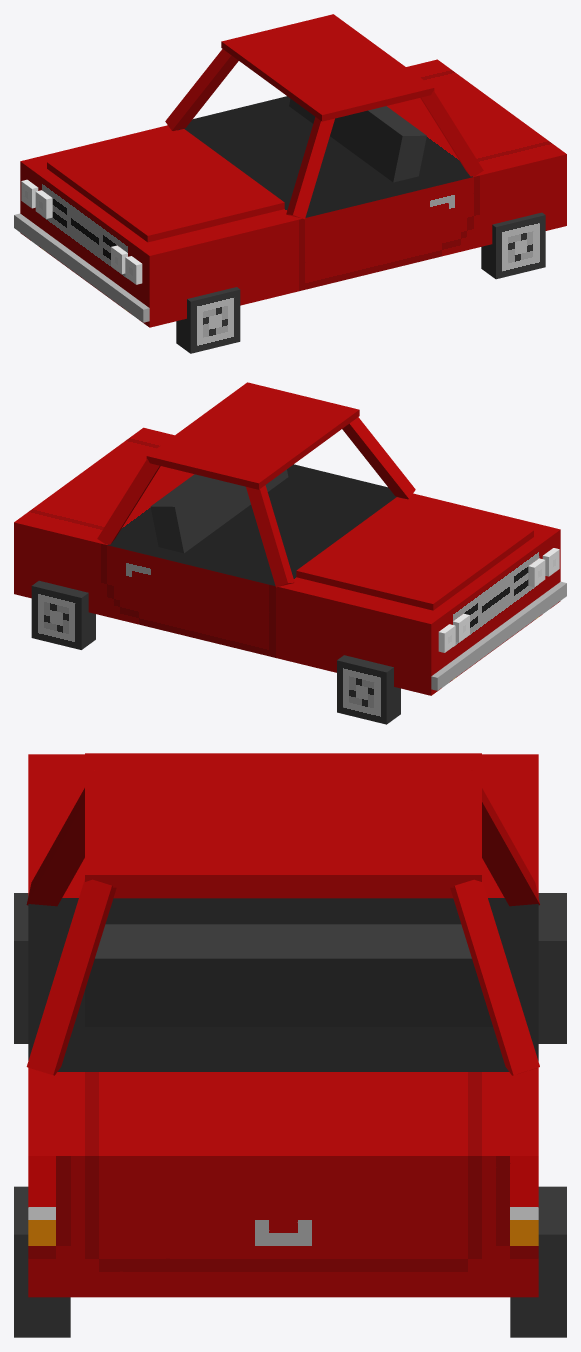
File: car.gltf
3 renders of one model, top to bottom at view 1: azimuth 30°, elevation 25°; view 2: azimuth 150°, elevation 25°; view 3: azimuth 270°, elevation 25°, orthographic. The views are drawn at different scales.
Parts seen in each view (by area): view 1: cube (×9), wheel (×2); view 2: cube (×8), wheel (×2); view 3: cube (×8), wheel (×4).
Boxes of the visible parts, box(x1,y1,x2,y2) form: cube (×9): box(14, 14, 566, 327); wheel (×2): box(176, 212, 545, 353); cube (×8): box(14, 382, 566, 695); wheel (×2): box(31, 580, 400, 724); cube (×8): box(26, 753, 539, 1297); wheel (×4): box(14, 893, 566, 1337).
Size of the model in its own units: 4.25 by 1.81 by 2.44.
1 material, 1 textured.
